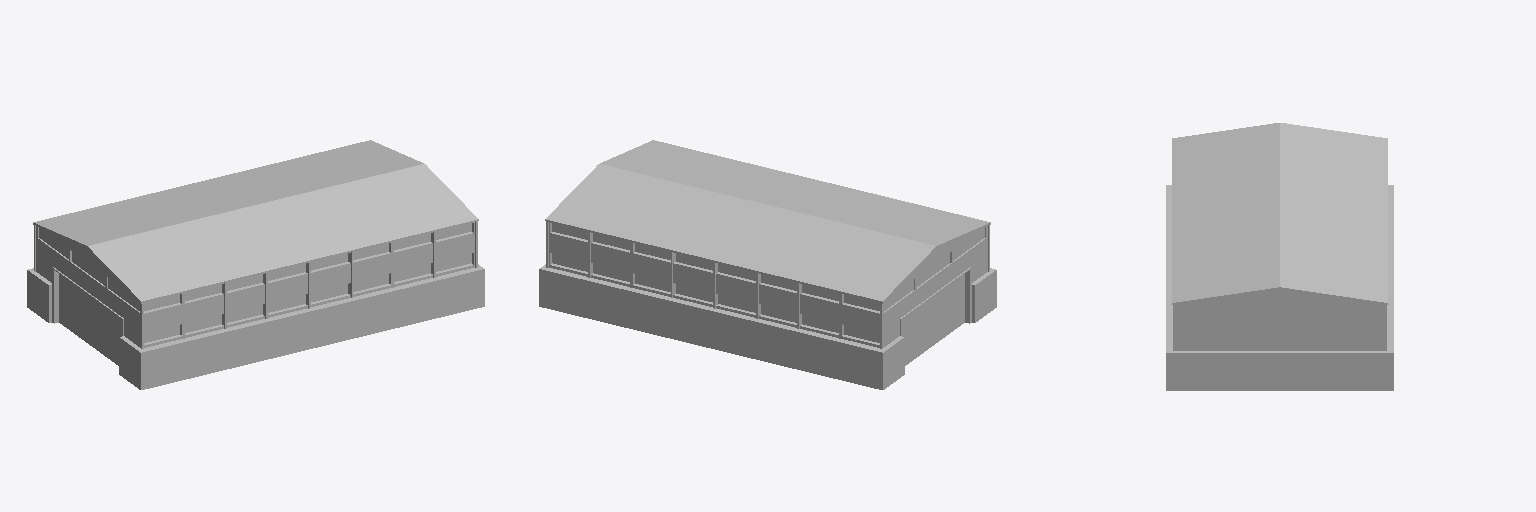
Rendered from Building_10.obj.
3 renders of one model, left to right at view 1: azimuth 30°, elevation 25°; view 2: azimuth 150°, elevation 25°; view 3: azimuth 270°, elevation 25°, orthographic.
Visible parts, largest first — view 1: Building_10; view 2: Building_10; view 3: Building_10.
Boxes of the visible parts, x1,y1,x2,y2 form: Building_10: [27, 140, 484, 389]; Building_10: [539, 140, 996, 389]; Building_10: [1166, 123, 1393, 390].
Bounding box in the file's own units: 37.53 × 10.67 × 21.47.